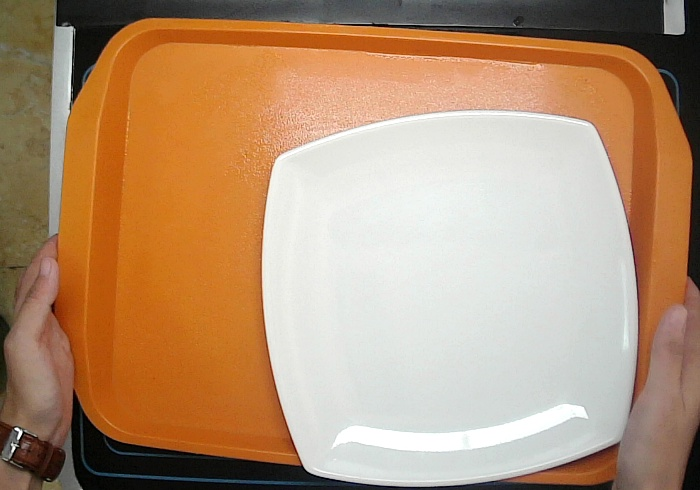ZNLD-Bai_Fang_Pan: (259, 106, 642, 490)
